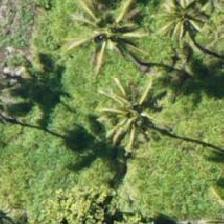coconut_tree: (86, 80, 176, 170), (62, 0, 152, 76), (139, 0, 223, 57)
